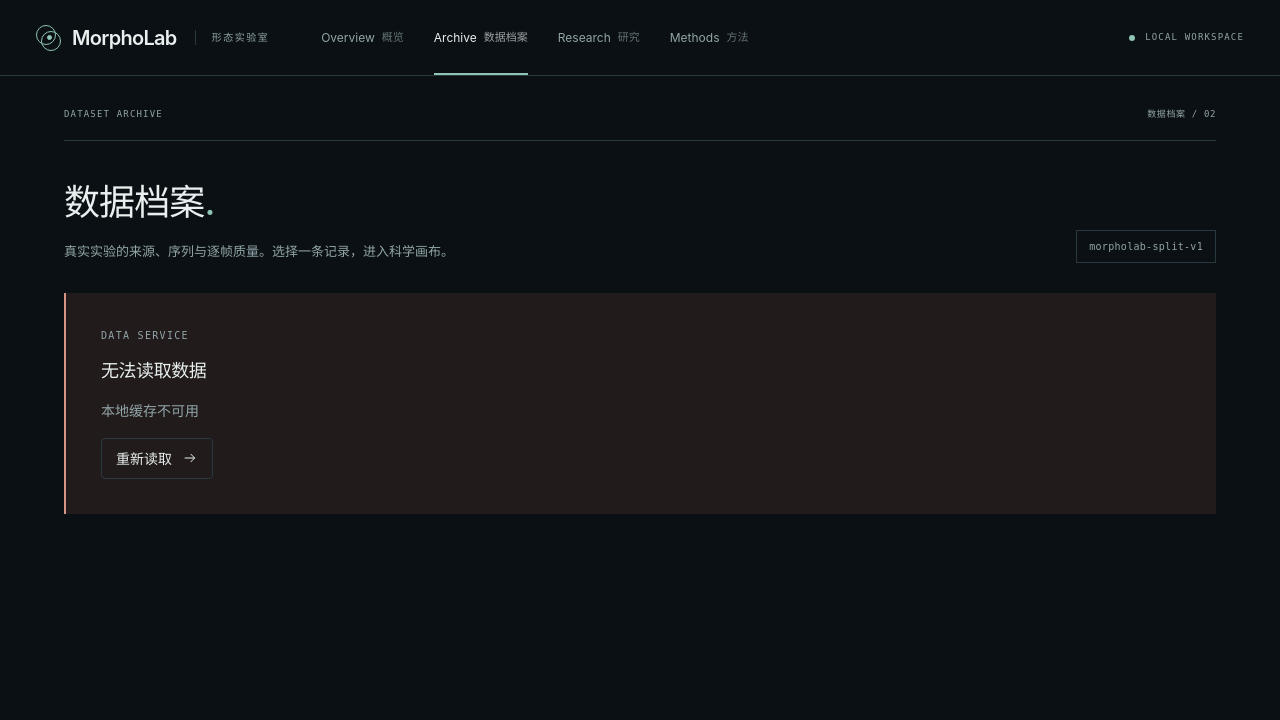
Test: archive component workflow › shows request errors and retries explicitly
The image size is (1280, 720).
Expected: the message shows "本地缓存不可用", [101, 402, 199, 419]
Click the button "重新读取". click: [157, 458]
box: [101, 438, 213, 479]
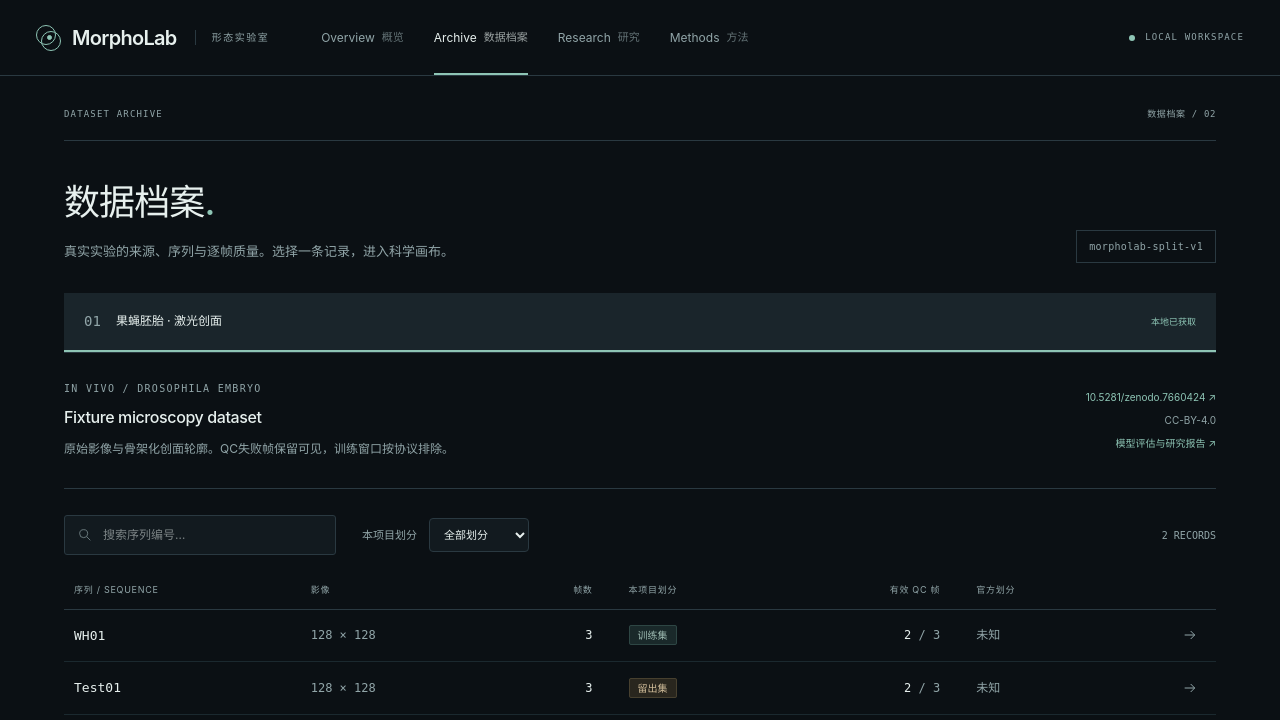
Now the link "WH01" is shown, box [74, 628, 105, 643]
